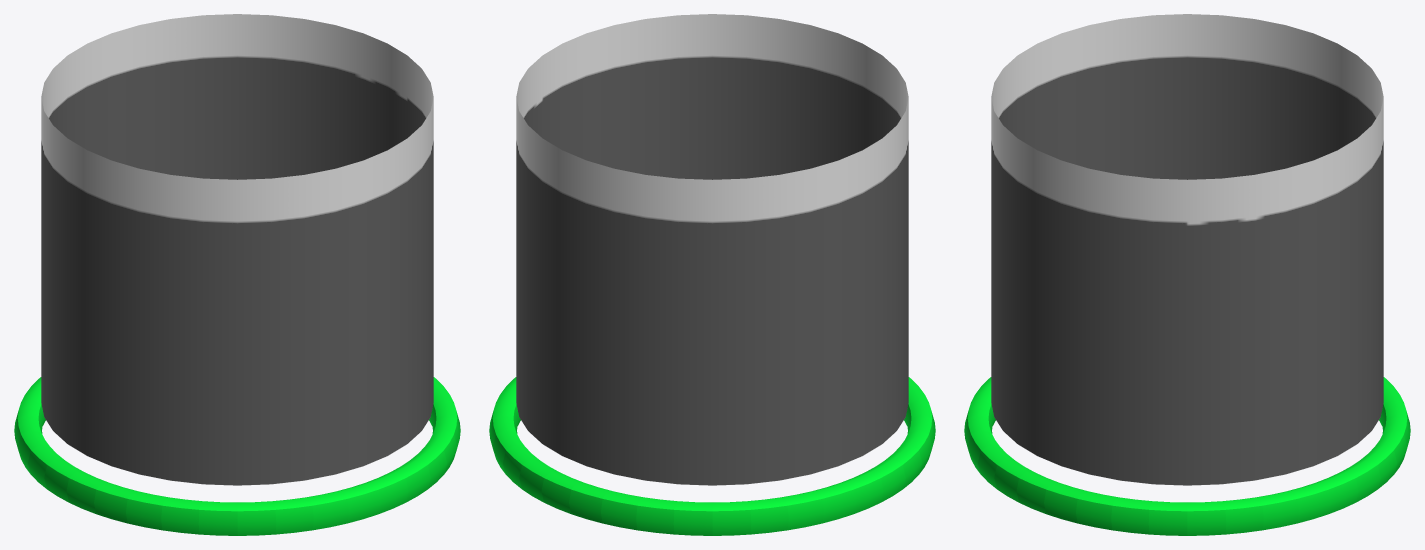
File: teleport_end.FBX
The picture shows the model from 3 angles, left to right: view 1: azimuth 30°, elevation 25°; view 2: azimuth 150°, elevation 25°; view 3: azimuth 270°, elevation 25°; orthographic projection.
Visible parts, largest first — view 1: fade, teleport_end; view 2: fade, teleport_end; view 3: fade, teleport_end.
Part boxes in pixels (<box>): fade: <box>41,14,433,485</box>; teleport_end: <box>14,377,460,535</box>; fade: <box>516,14,908,485</box>; teleport_end: <box>489,377,935,535</box>; fade: <box>991,14,1383,485</box>; teleport_end: <box>964,377,1410,535</box>.
Bounding box in the file's own units: 21.32 × 18.46 × 21.32.
2 materials, 1 textured.
